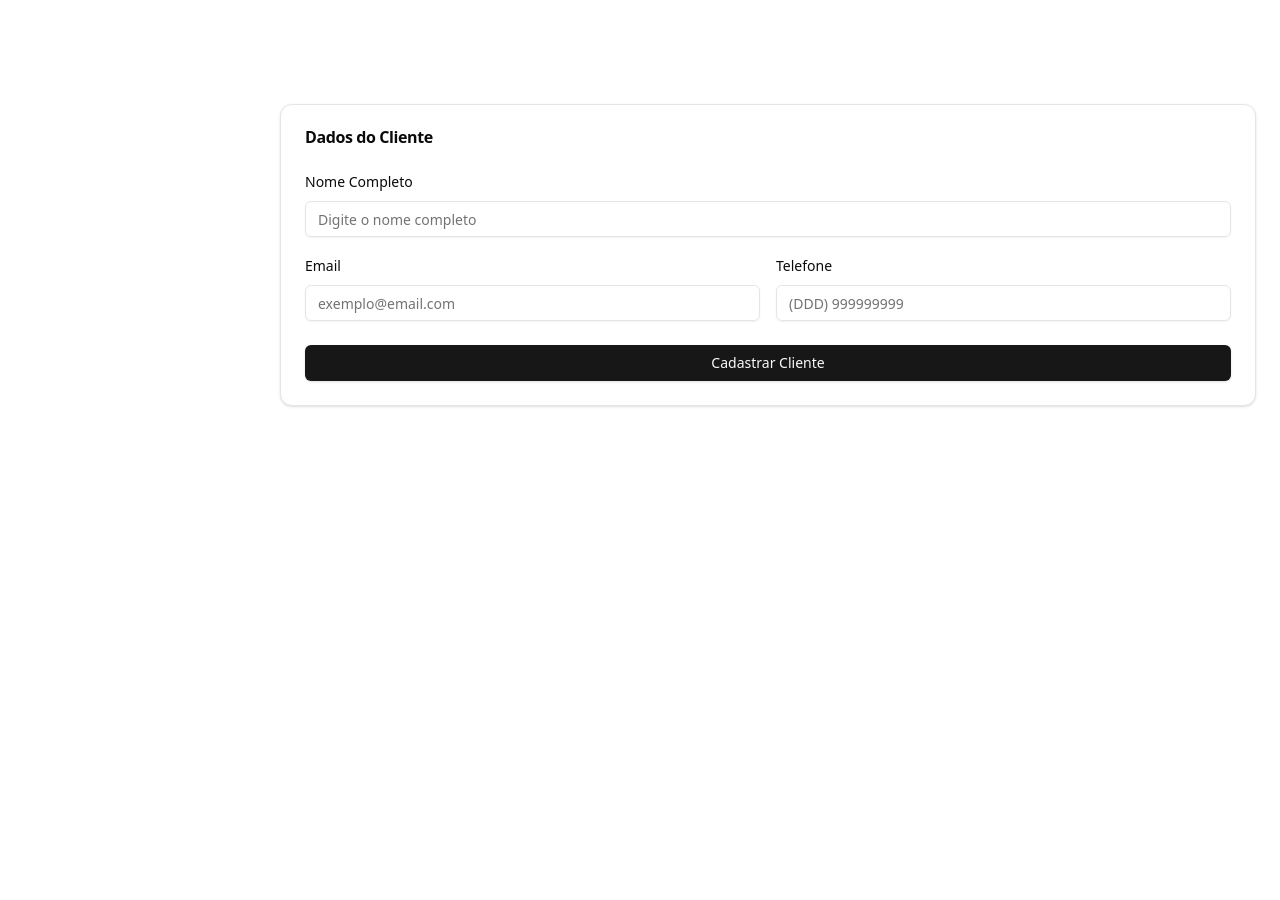
Scenario: FormClientRegister › mostra erro se nome não for preenchido
Click the button "Cadastrar Cliente". click: coordinates (768, 363)
box: [305,345,1231,381]
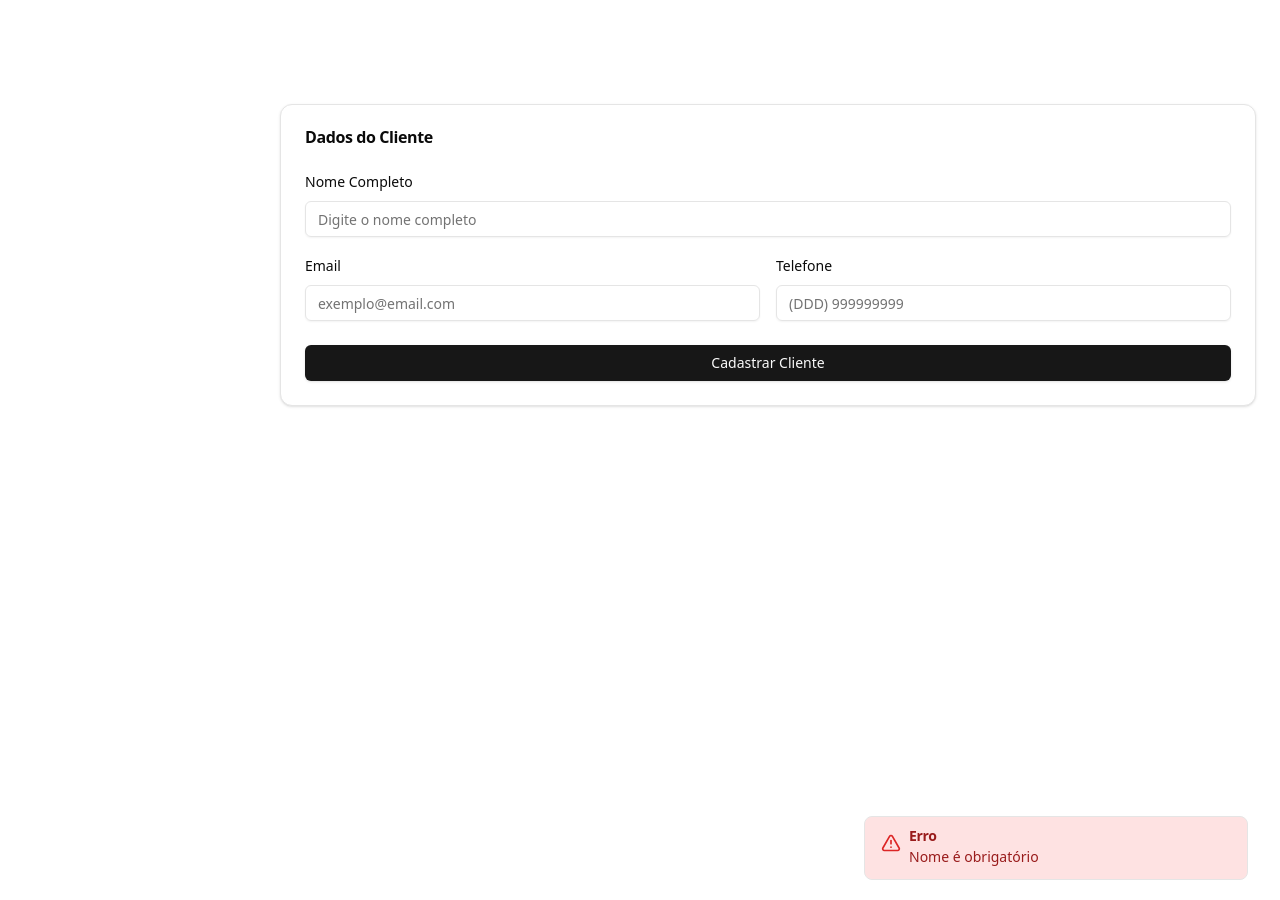
Result: the text "Nome é obrigatório" is shown at [909,847,1039,866]
